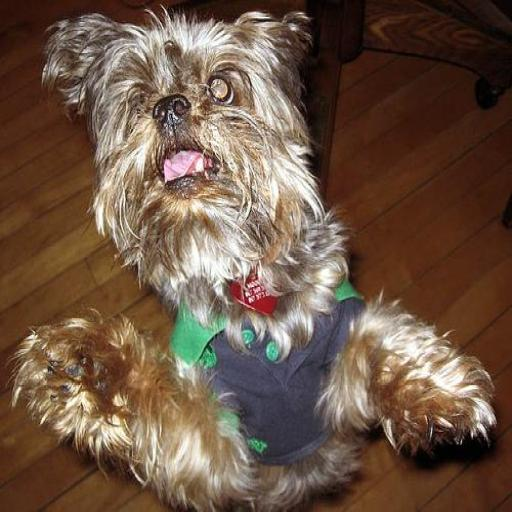dog_face: (51, 15, 287, 251)
